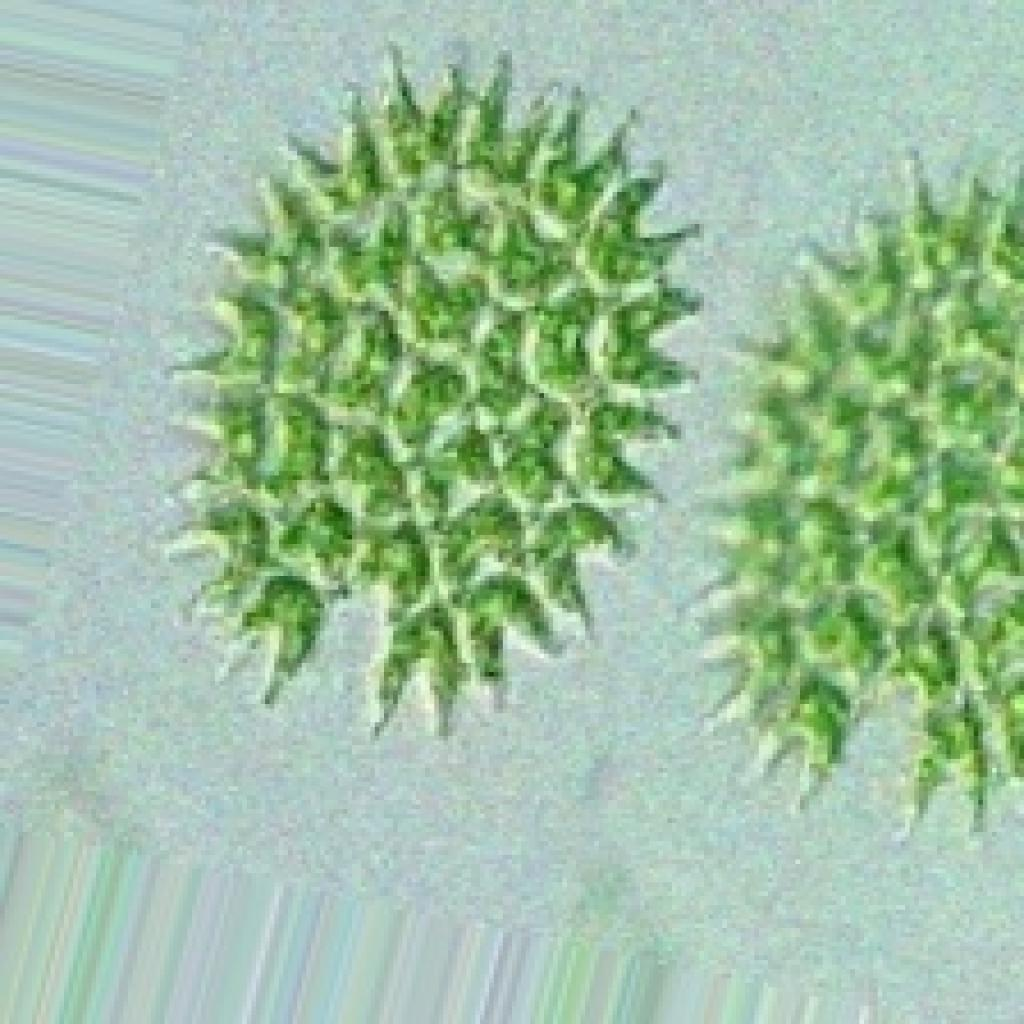Microalgae: (160, 37, 704, 736), (681, 137, 1020, 841)
